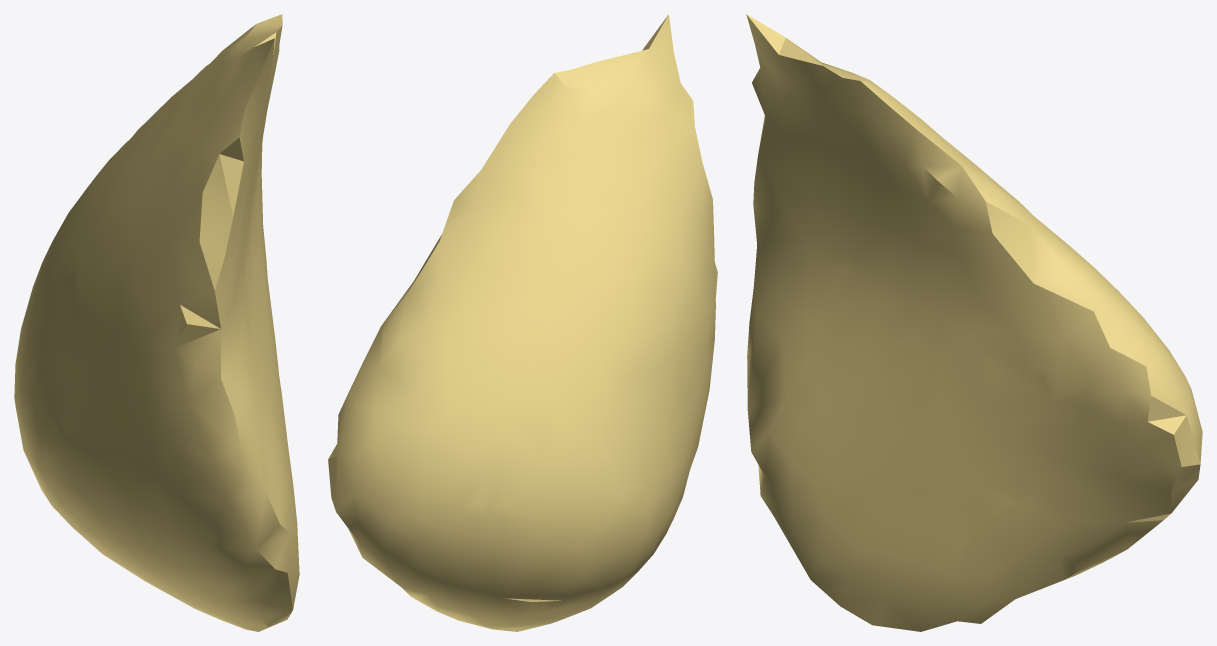
Rendered from fma73366_mm2847.glb.
3 views of the same model, side by side, from view 1: azimuth 30°, elevation 25°; view 2: azimuth 150°, elevation 25°; view 3: azimuth 270°, elevation 25° (orthographic). The views are drawn at different scales.
Visible parts, largest first — view 1: FMA73366_MM2847; view 2: FMA73366_MM2847; view 3: FMA73366_MM2847.
Part boxes in pixels (x1,y1,x2,y2): FMA73366_MM2847: [14, 14, 299, 631]; FMA73366_MM2847: [328, 14, 717, 631]; FMA73366_MM2847: [746, 14, 1202, 631].
Size of the model in its own units: 0.00232 by 0.00538 by 0.0038.
